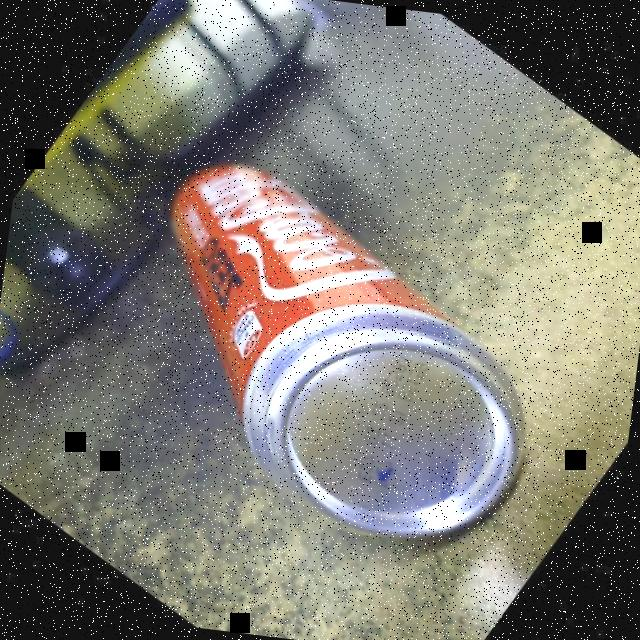can: (124, 145, 562, 561)
